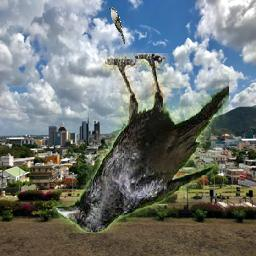Crow: (53, 53, 230, 233)
Cuckoo: (109, 8, 126, 45)
